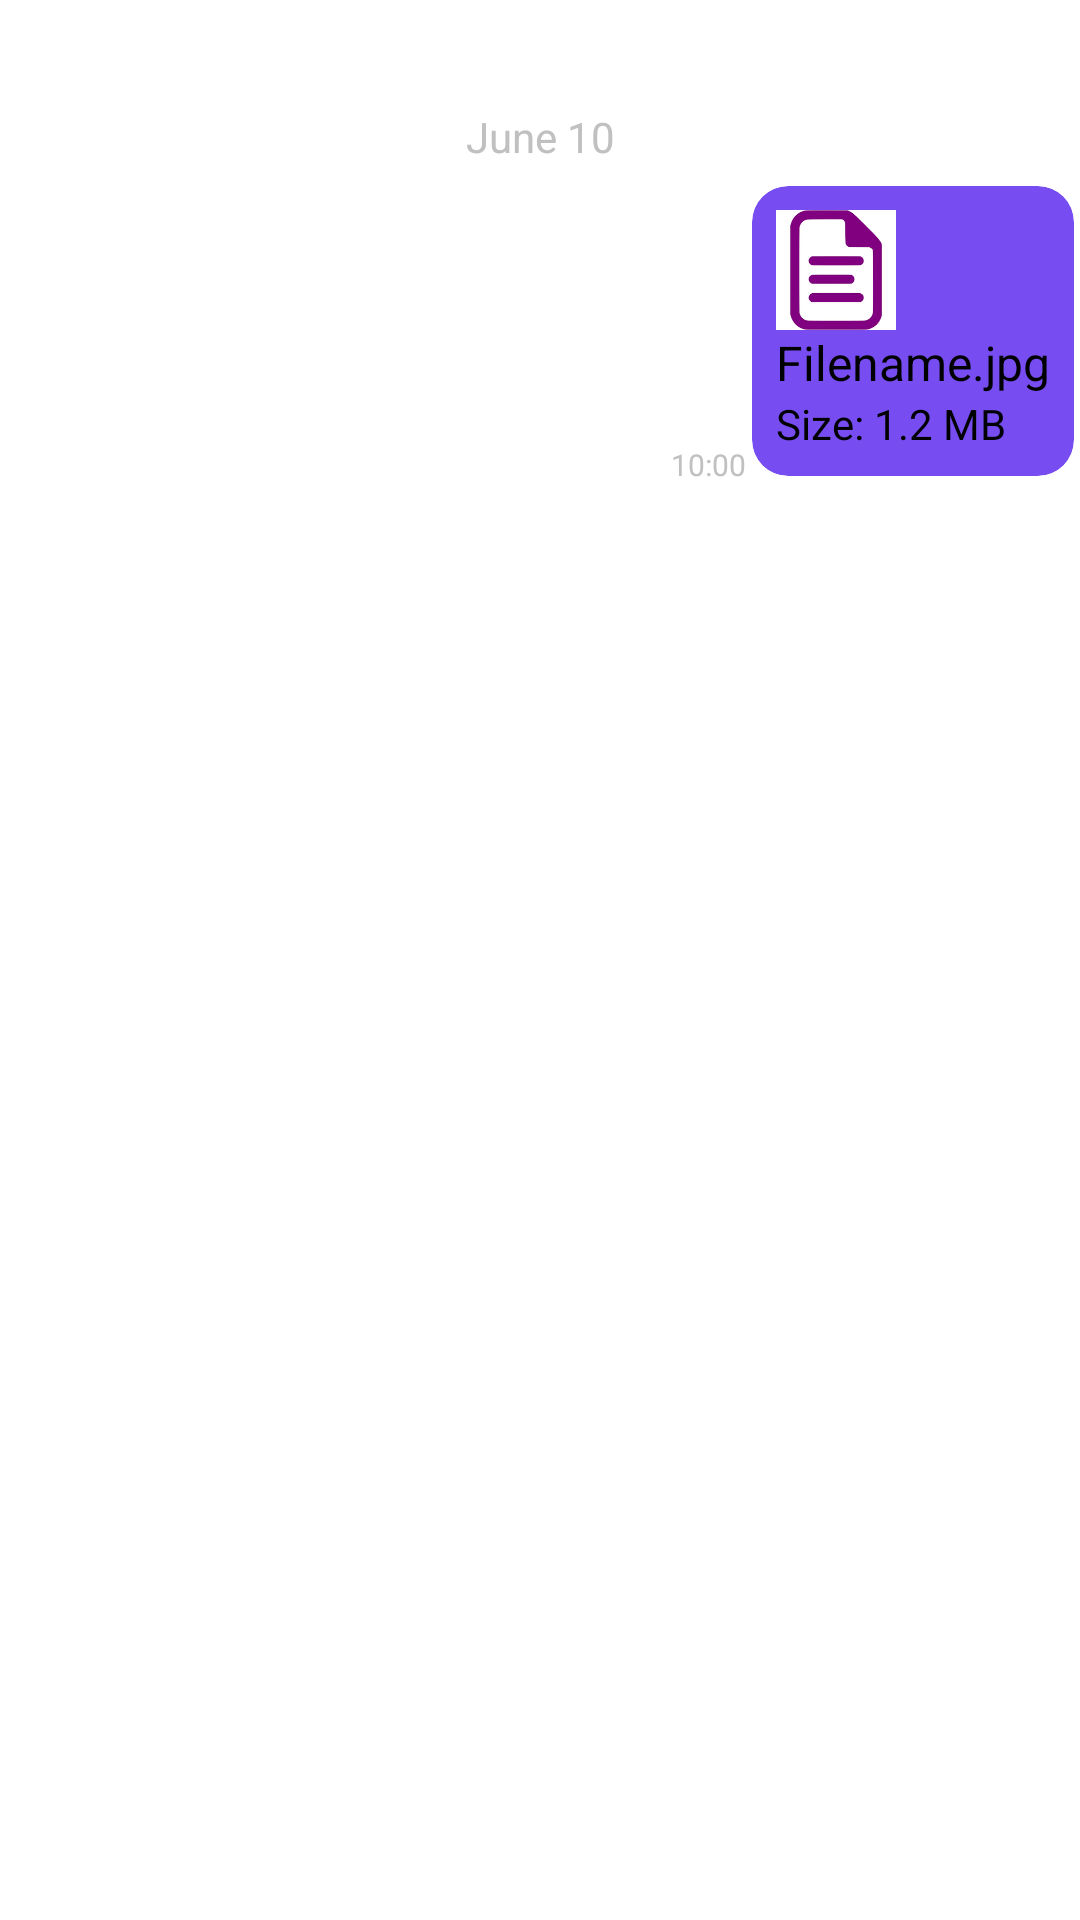

Screen size 1080 x 1920. Icon name, then its center in pixels as (x,y):
File Icon: (836,270)
